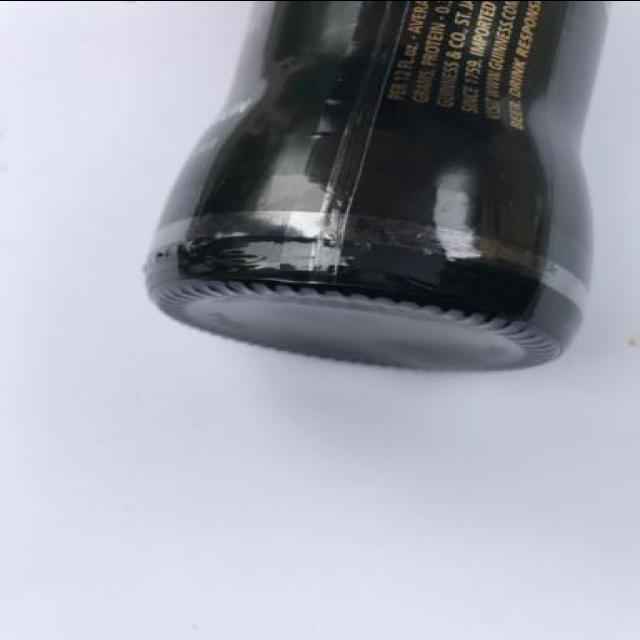Glass Bottle: (140, 2, 596, 372)
